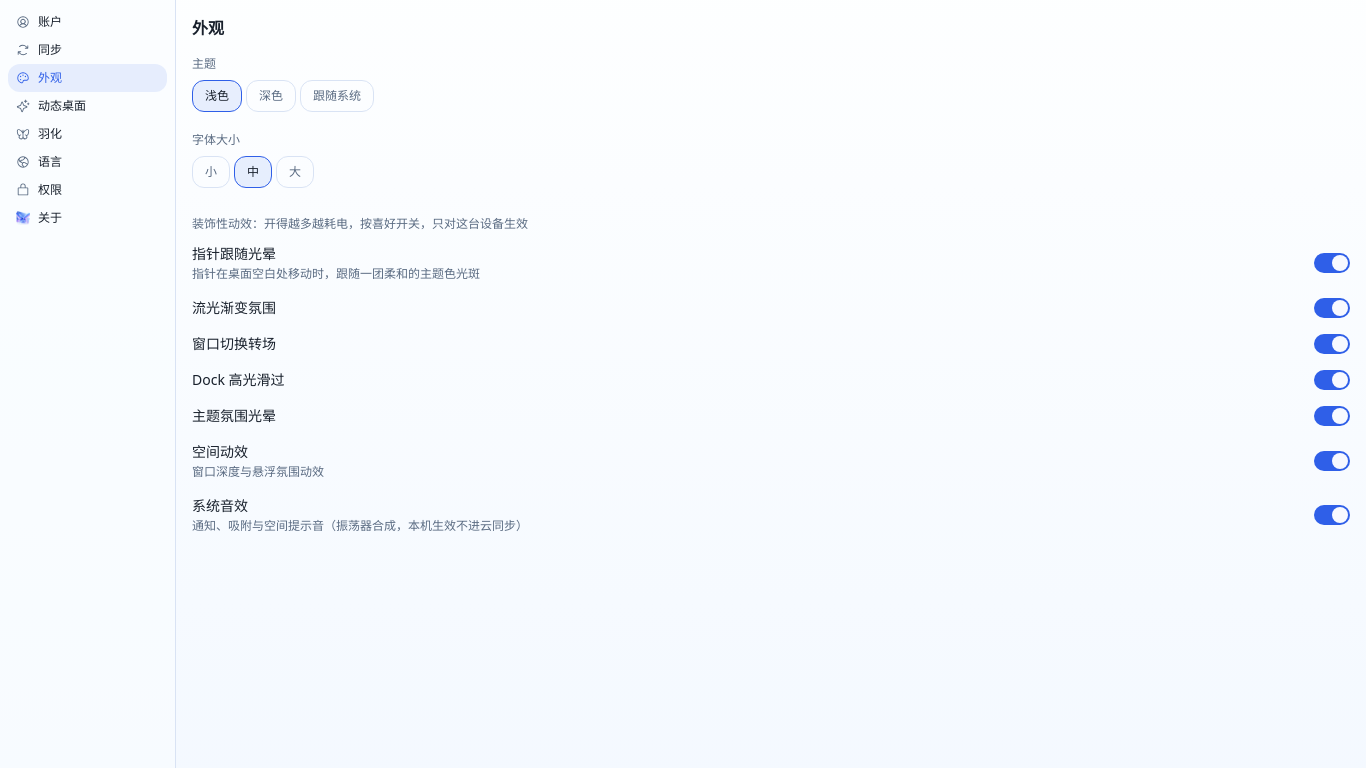
Test: SettingsApp › switches the interface language
This screenshot has width=1366, height=768.
Click the button "语言": (88, 162) [8, 148, 167, 176]
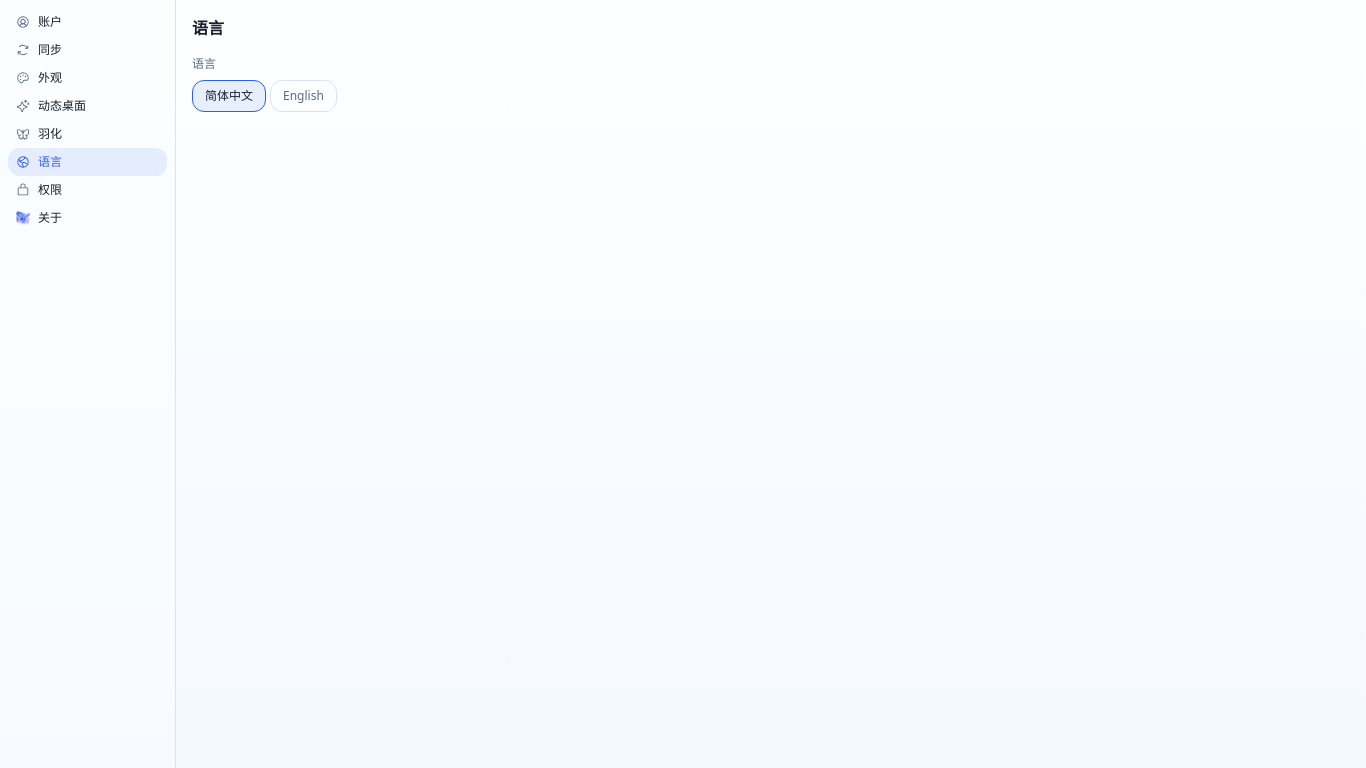
Click the button "English": (303, 96) [270, 80, 337, 112]
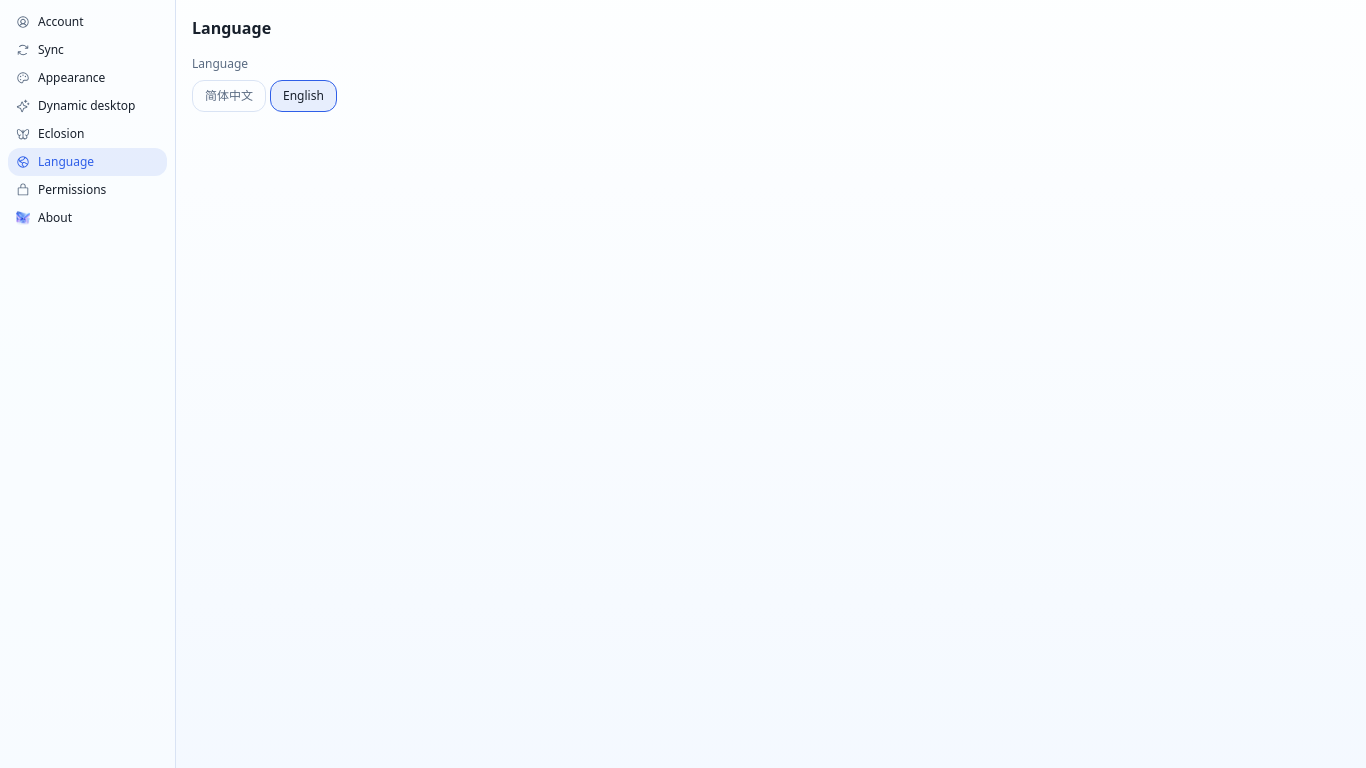
Now the element "Language" is shown, box [192, 17, 337, 112]
